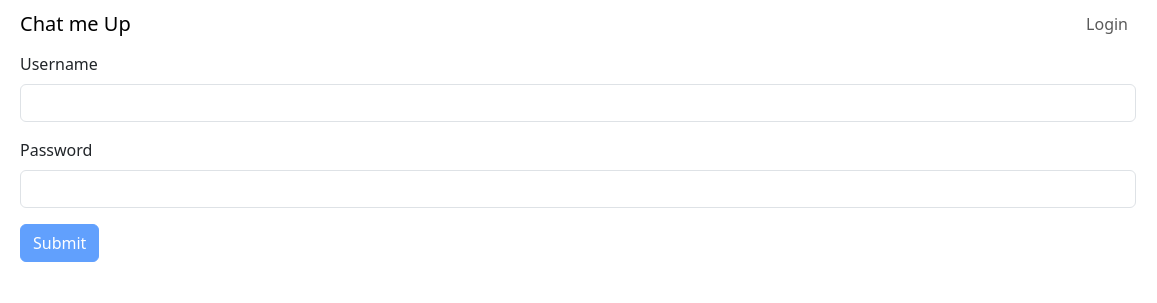
Login › No password
The image size is (1157, 303).
Type "invalid" into the field with id "username" at (578, 103), box [20,84,1136,122]
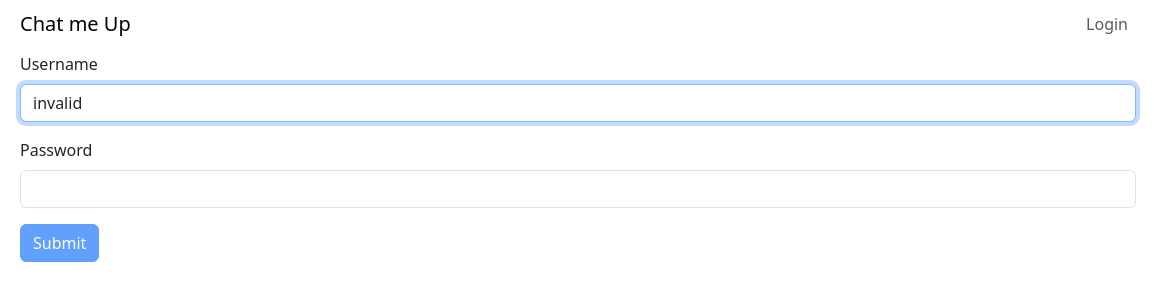
Expected: the submit button is disabled, [20,224,99,262]
Focus the password field labelled "Password" at (578, 189), box [20,170,1136,208]
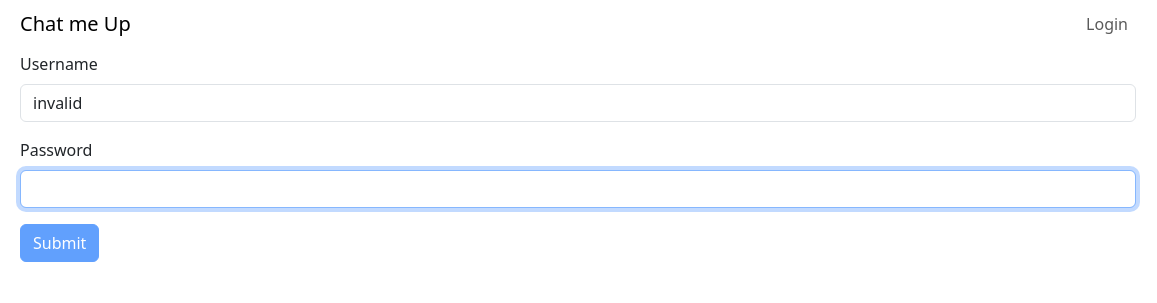
Leave the password field labelled "Password", box [20,170,1136,208]
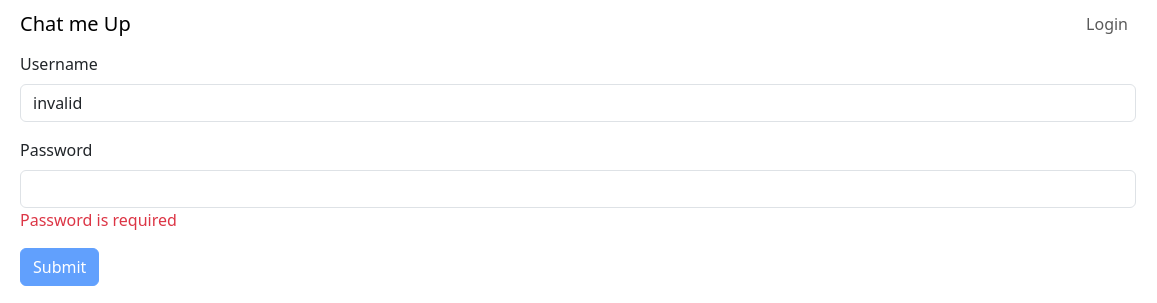
Now the text "Password is required" is shown, box [20,209,177,231]
